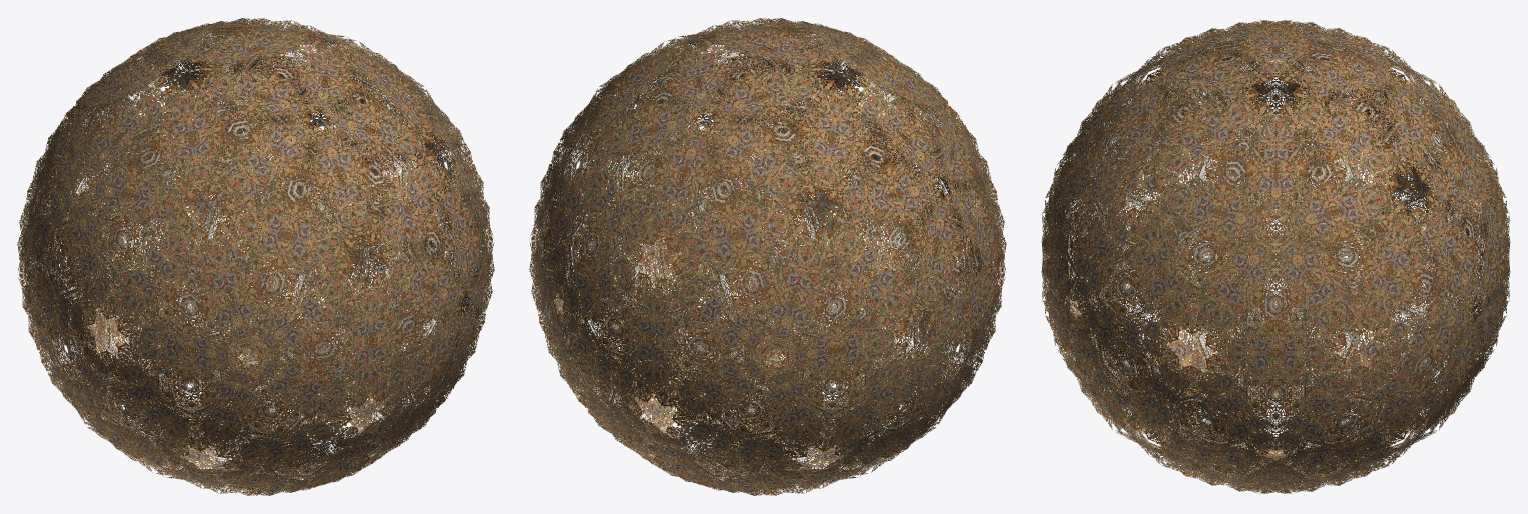
The model's file is SmallHexagonalHexecontahedron1.gltf.
The picture shows the model from 3 angles, left to right: view 1: azimuth 30°, elevation 25°; view 2: azimuth 150°, elevation 25°; view 3: azimuth 270°, elevation 25°; orthographic projection.
Visible parts, largest first — view 1: SmallHexagonalHexecontahedron; view 2: SmallHexagonalHexecontahedron; view 3: SmallHexagonalHexecontahedron.
Part boxes in pixels (bbox=[...]): SmallHexagonalHexecontahedron: bbox=[17, 18, 494, 495]; SmallHexagonalHexecontahedron: bbox=[529, 18, 1006, 495]; SmallHexagonalHexecontahedron: bbox=[1041, 19, 1510, 494].
Bounding box in the file's own units: 2.73 × 2.73 × 2.73.
Materials: 1 (1 with a texture image).
